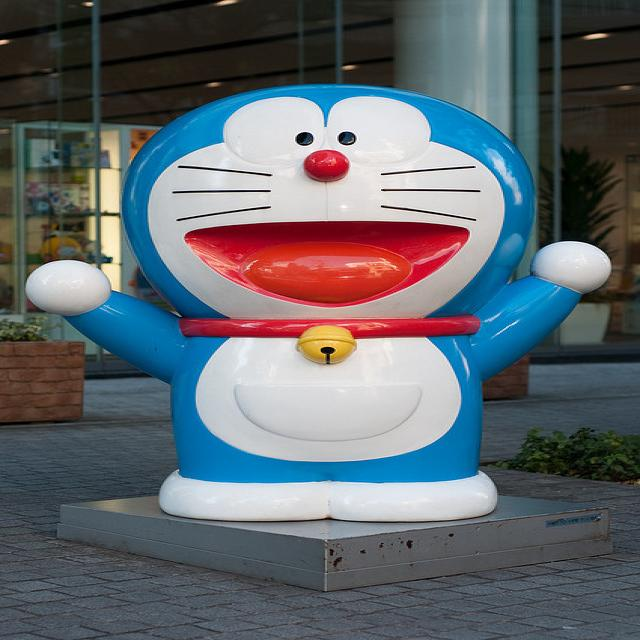doraemon: (74, 73, 587, 384)
